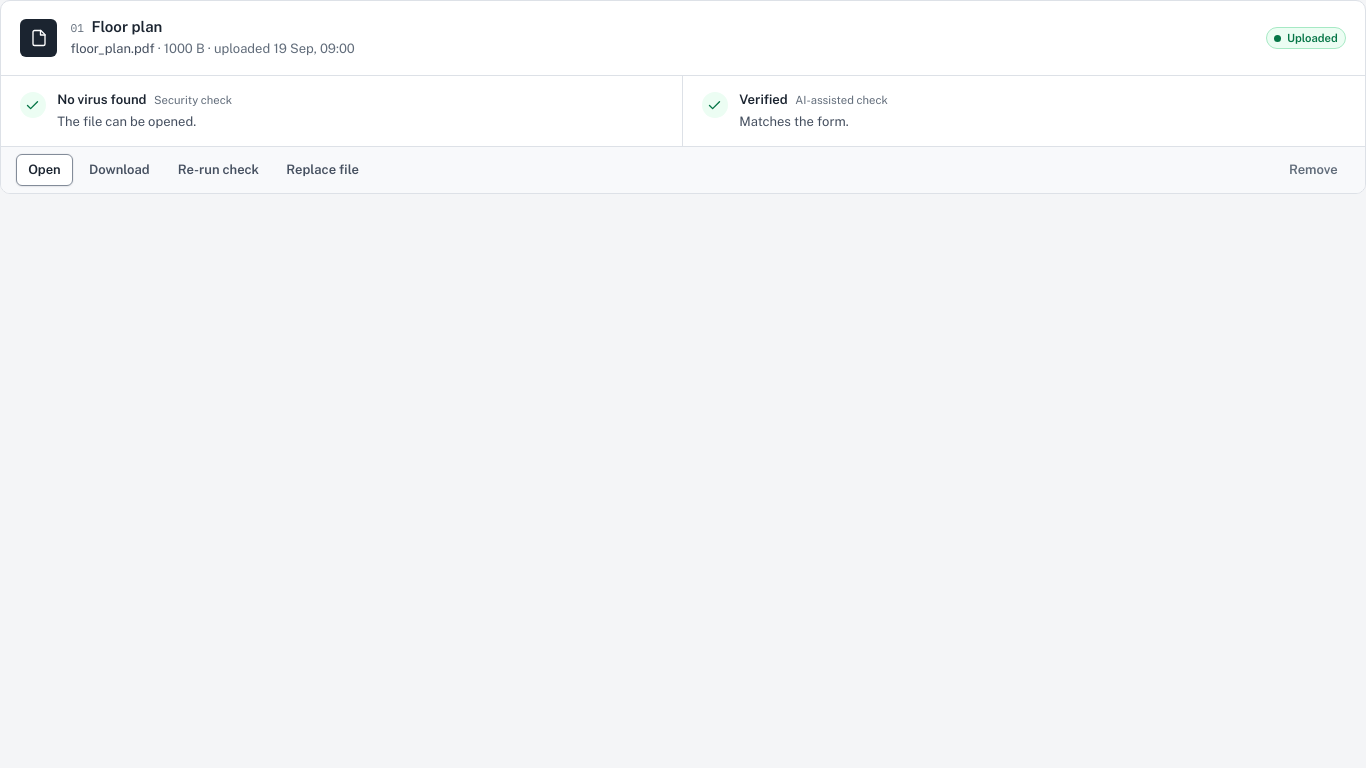
Scenario: operator document slot by scan state (US-099, artboard 2a) › a download refused with file_scanning is explained
This screenshot has width=1366, height=768.
Click the button "Download " at (119, 170), box [77,154,162,186]
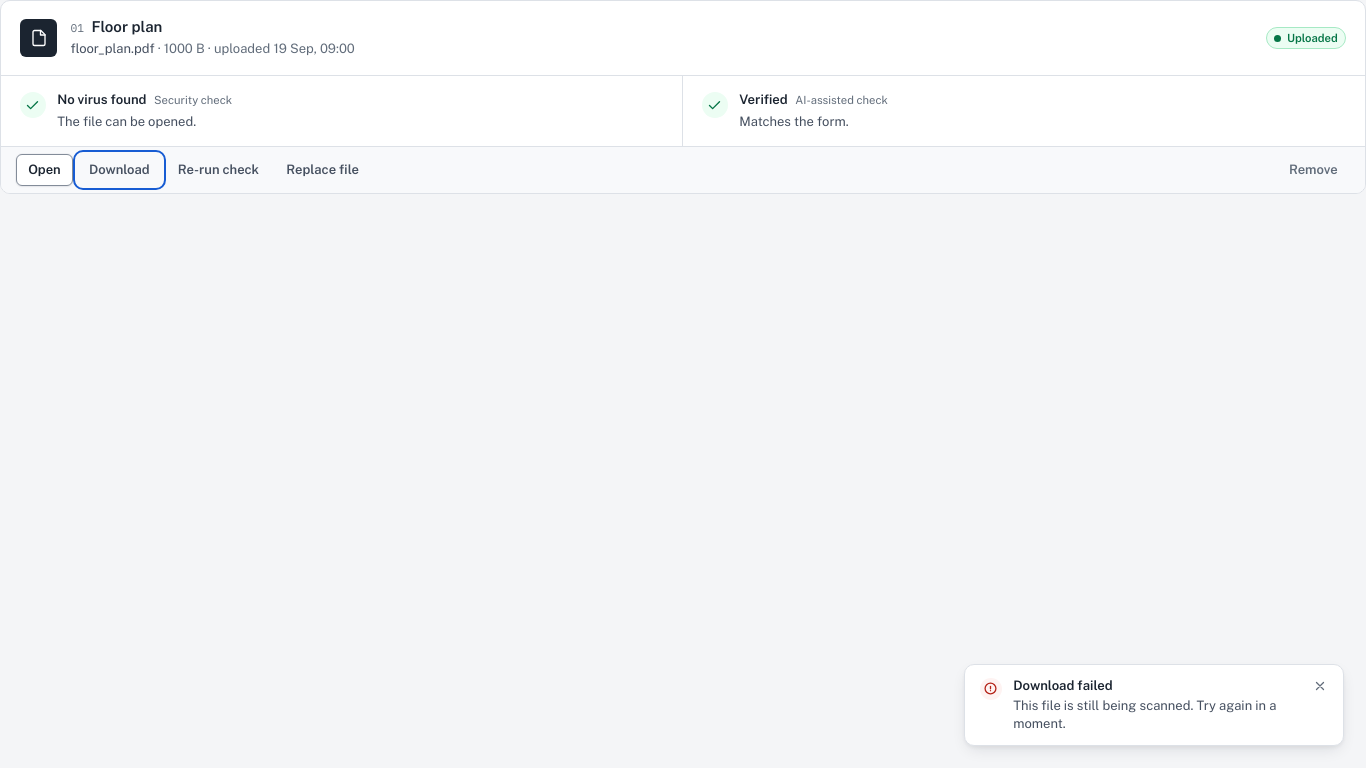
Result: the text "This file is still being scanned. Try again in a moment." is shown at [1013,697,1296,733]
